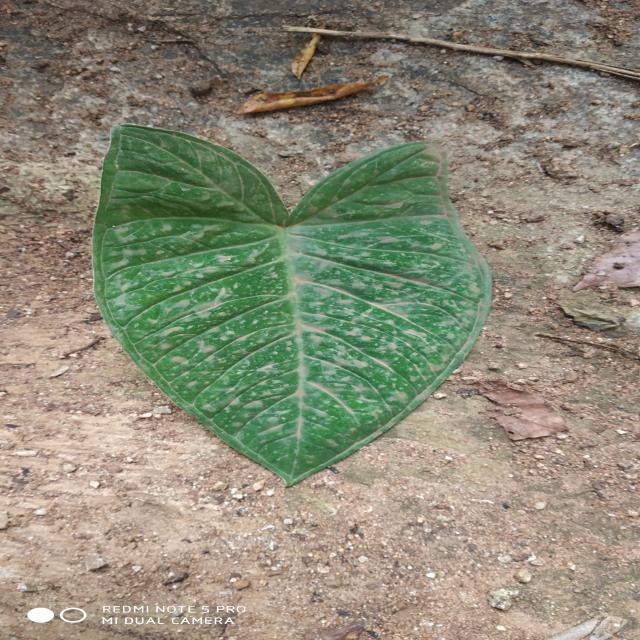taro: (93, 125, 491, 484)
